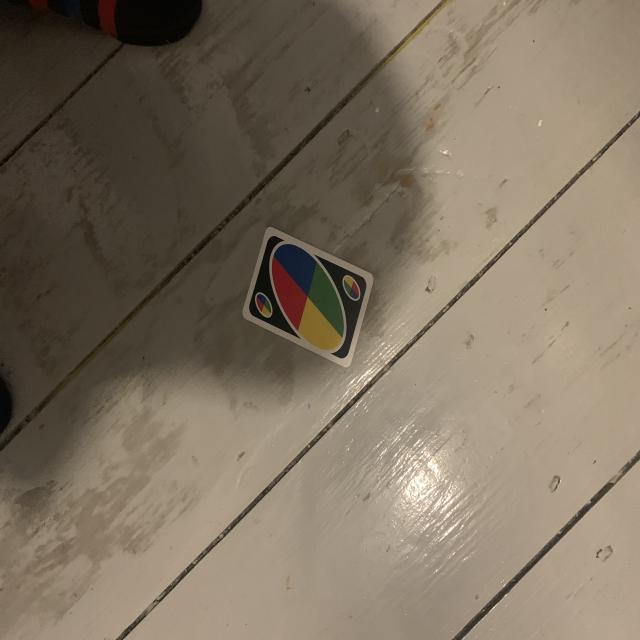lcolor-40: (250, 289, 276, 322)
